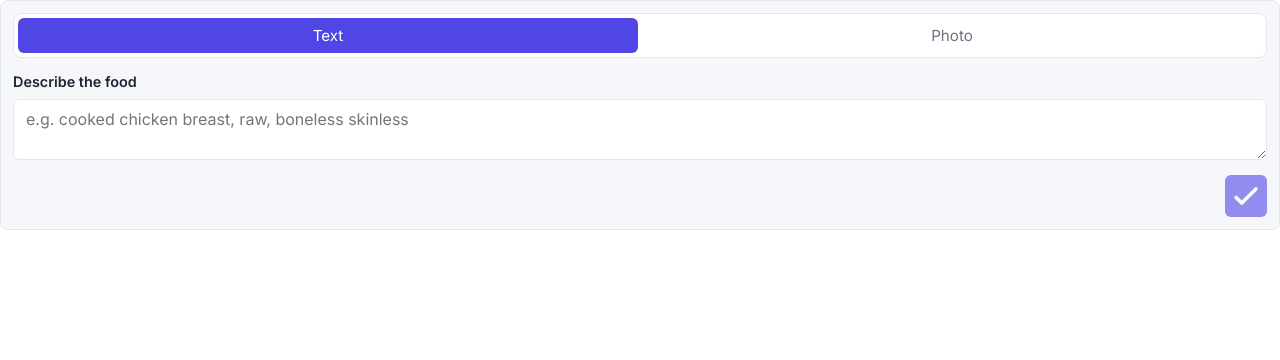
it: FoodAiAssist › shows refine box after a successful estimate too
The width and height of the screenshot is (1280, 360).
Type "chicken breast" into the text box labelled "Describe the food" at (640, 129), box [13,99,1267,160]
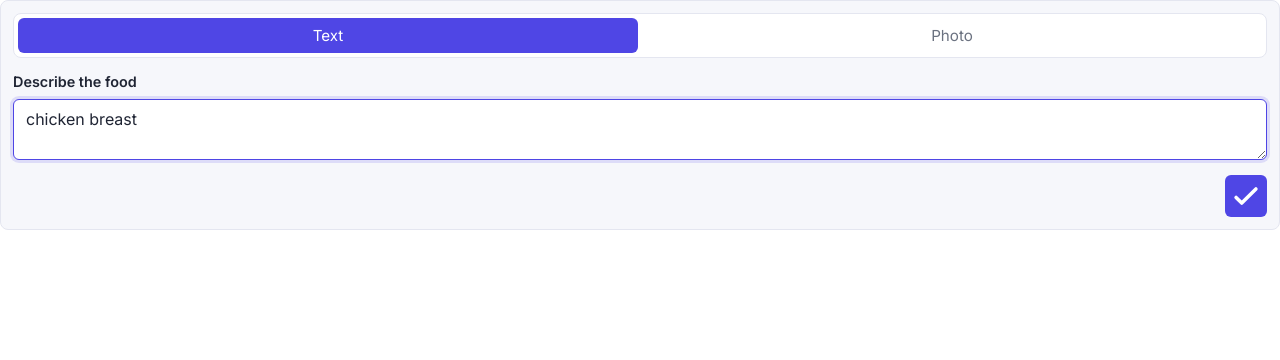
Click the button named "Estimate" at (1246, 196), box [1225,175,1267,217]
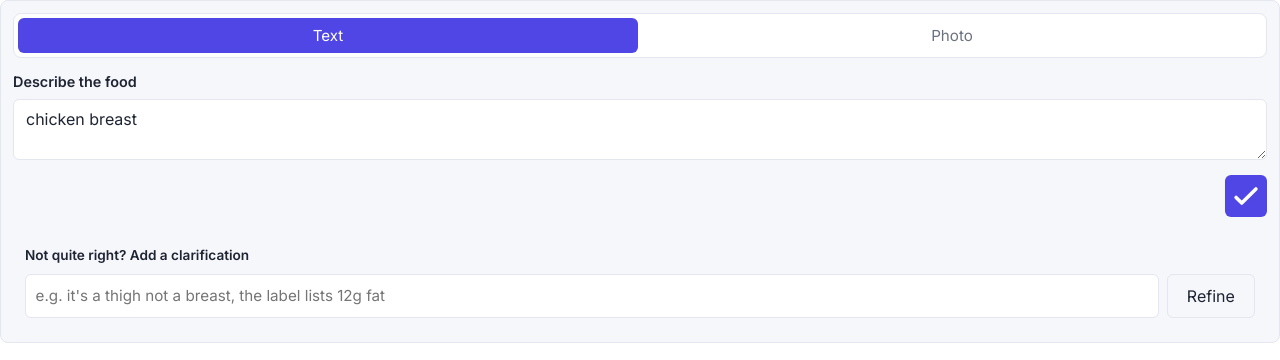
Result: the field labelled "Not quite right? Add a clarification" is shown at [25,274,1159,318]
